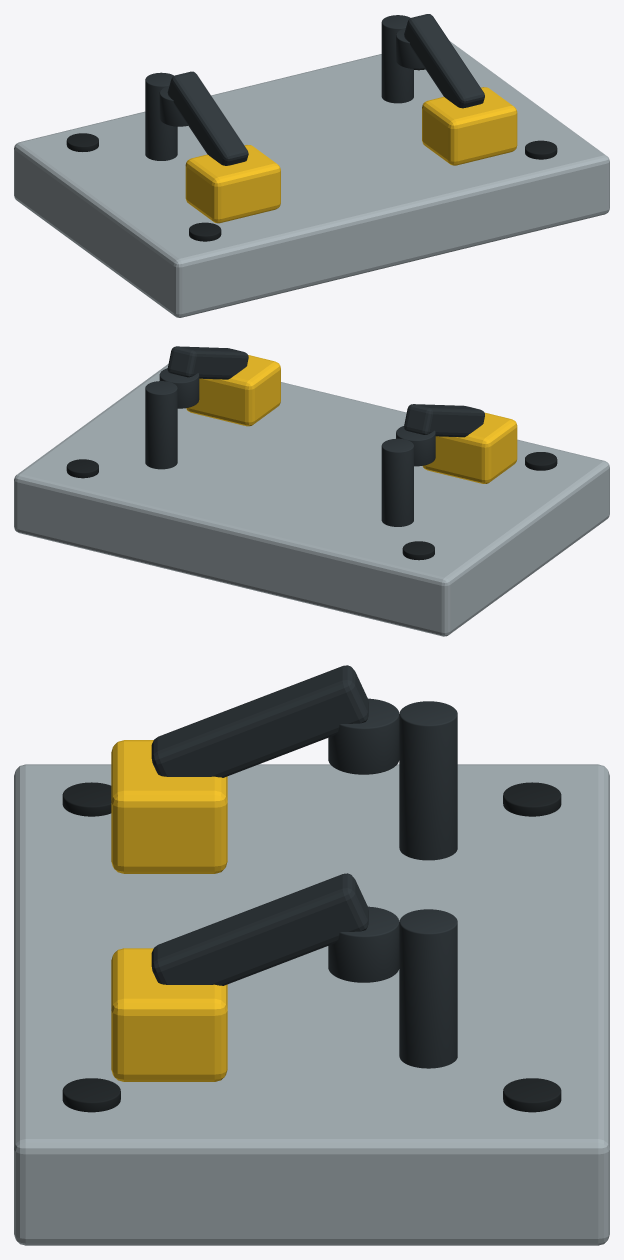
File: modular_assembly_fixture.glb
The picture shows the model from 3 angles, top to bottom: view 1: azimuth 30°, elevation 25°; view 2: azimuth 150°, elevation 25°; view 3: azimuth 270°, elevation 25°; orthographic projection. The views are drawn at different scales.
Visible parts, largest first — view 1: FIXTURE_BASE, TOGGLE_CLAMP_BASE_0.38, TOGGLE_CLAMP_BASE_-0.38, TOGGLE_CLAMP_ARM_0.38, TOGGLE_CLAMP_ARM_-0.38, LOCATING_PIN_0.38, LOCATING_PIN_-0.38, CLAMP_PAD_-0.38, CLAMP_PAD_0.38, MOUNT_HOLE_-0.54_-0.34, MOUNT_HOLE_0.54_-0.34, MOUNT_HOLE_-0.54_0.34; view 2: FIXTURE_BASE, TOGGLE_CLAMP_BASE_-0.38, TOGGLE_CLAMP_BASE_0.38, LOCATING_PIN_0.38, LOCATING_PIN_-0.38, TOGGLE_CLAMP_ARM_0.38, TOGGLE_CLAMP_ARM_-0.38, CLAMP_PAD_0.38, CLAMP_PAD_-0.38, MOUNT_HOLE_0.54_0.34, MOUNT_HOLE_-0.54_0.34, MOUNT_HOLE_-0.54_-0.34; view 3: FIXTURE_BASE, TOGGLE_CLAMP_ARM_-0.38, TOGGLE_CLAMP_ARM_0.38, TOGGLE_CLAMP_BASE_-0.38, TOGGLE_CLAMP_BASE_0.38, LOCATING_PIN_0.38, LOCATING_PIN_-0.38, CLAMP_PAD_0.38, CLAMP_PAD_-0.38, MOUNT_HOLE_-0.54_0.34, MOUNT_HOLE_0.54_0.34, MOUNT_HOLE_0.54_-0.34 (+1 smaller).
Boxes of the visible parts, box(x1,y1,x2,y2) form: FIXTURE_BASE: box(14, 41, 609, 317); TOGGLE_CLAMP_BASE_0.38: box(422, 87, 517, 165); TOGGLE_CLAMP_BASE_-0.38: box(185, 145, 280, 223); TOGGLE_CLAMP_ARM_0.38: box(404, 14, 484, 108); TOGGLE_CLAMP_ARM_-0.38: box(167, 71, 248, 165); LOCATING_PIN_0.38: box(381, 15, 413, 103); LOCATING_PIN_-0.38: box(145, 72, 177, 160); CLAMP_PAD_-0.38: box(159, 86, 187, 126); CLAMP_PAD_0.38: box(396, 28, 424, 68); MOUNT_HOLE_-0.54_-0.34: box(189, 222, 221, 241); MOUNT_HOLE_0.54_-0.34: box(525, 140, 557, 159); MOUNT_HOLE_-0.54_0.34: box(66, 133, 98, 151); FIXTURE_BASE: box(14, 364, 609, 636); TOGGLE_CLAMP_BASE_-0.38: box(422, 412, 517, 483); TOGGLE_CLAMP_BASE_0.38: box(186, 355, 280, 426); LOCATING_PIN_0.38: box(145, 381, 177, 469); LOCATING_PIN_-0.38: box(381, 438, 413, 526); TOGGLE_CLAMP_ARM_0.38: box(167, 346, 248, 379); TOGGLE_CLAMP_ARM_-0.38: box(404, 404, 484, 437); CLAMP_PAD_0.38: box(159, 368, 199, 408); CLAMP_PAD_-0.38: box(396, 426, 435, 466); MOUNT_HOLE_0.54_0.34: box(66, 459, 98, 478); MOUNT_HOLE_-0.54_0.34: box(402, 541, 434, 560); MOUNT_HOLE_-0.54_-0.34: box(525, 452, 557, 470); FIXTURE_BASE: box(14, 764, 609, 1245); TOGGLE_CLAMP_ARM_-0.38: box(151, 665, 368, 777); TOGGLE_CLAMP_ARM_0.38: box(151, 873, 368, 985); TOGGLE_CLAMP_BASE_-0.38: box(111, 740, 227, 873); TOGGLE_CLAMP_BASE_0.38: box(111, 948, 227, 1081); LOCATING_PIN_0.38: box(399, 909, 457, 1068); LOCATING_PIN_-0.38: box(399, 701, 457, 860); CLAMP_PAD_0.38: box(328, 906, 399, 982); CLAMP_PAD_-0.38: box(328, 698, 399, 774); MOUNT_HOLE_-0.54_0.34: box(503, 782, 561, 816); MOUNT_HOLE_0.54_0.34: box(503, 1078, 561, 1112); MOUNT_HOLE_0.54_-0.34: box(62, 1078, 120, 1112).
Bounding box in the file's own units: 1.4 × 0.4783 × 0.92.
